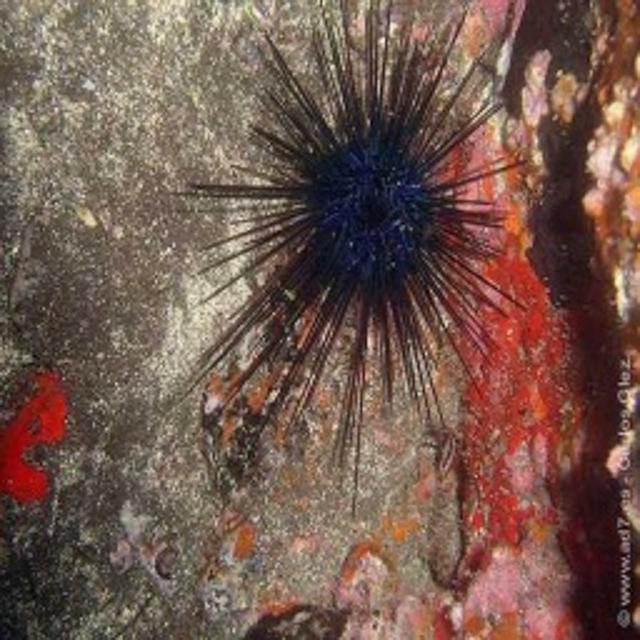Urchin: (195, 13, 519, 478)
